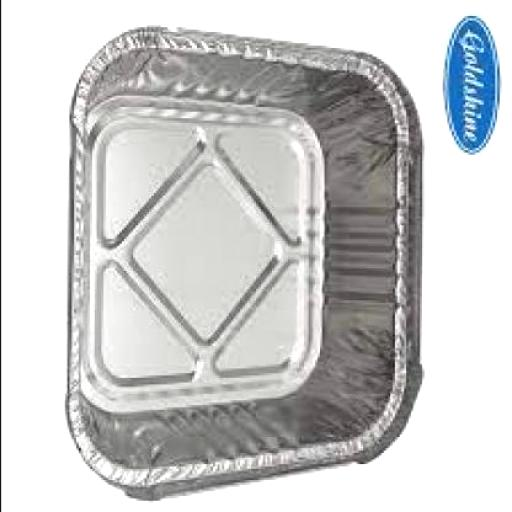metal: (68, 28, 426, 498)
